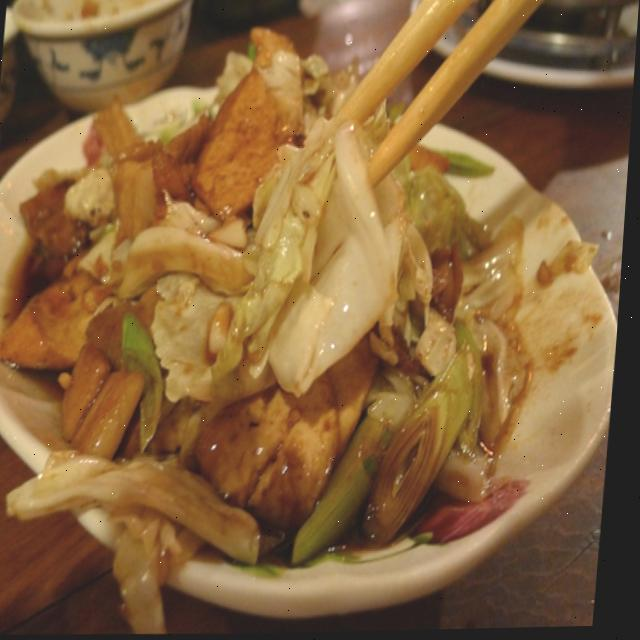猪肉菜式: (0, 41, 597, 591)
